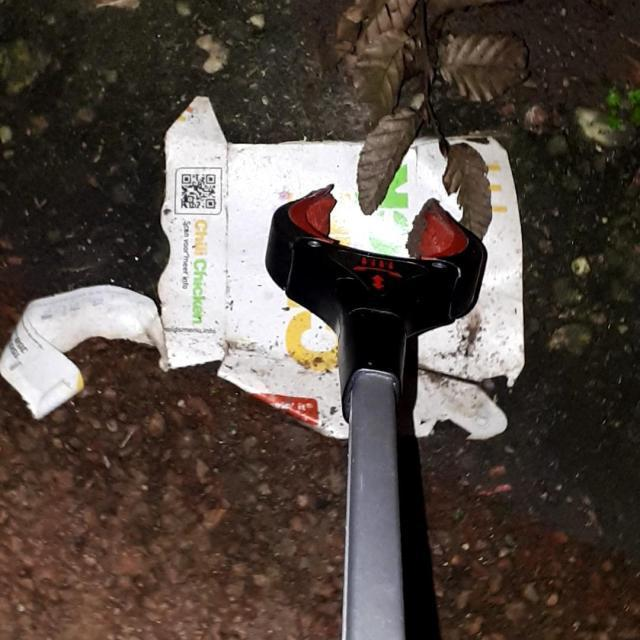Paper: (0, 88, 530, 444)
